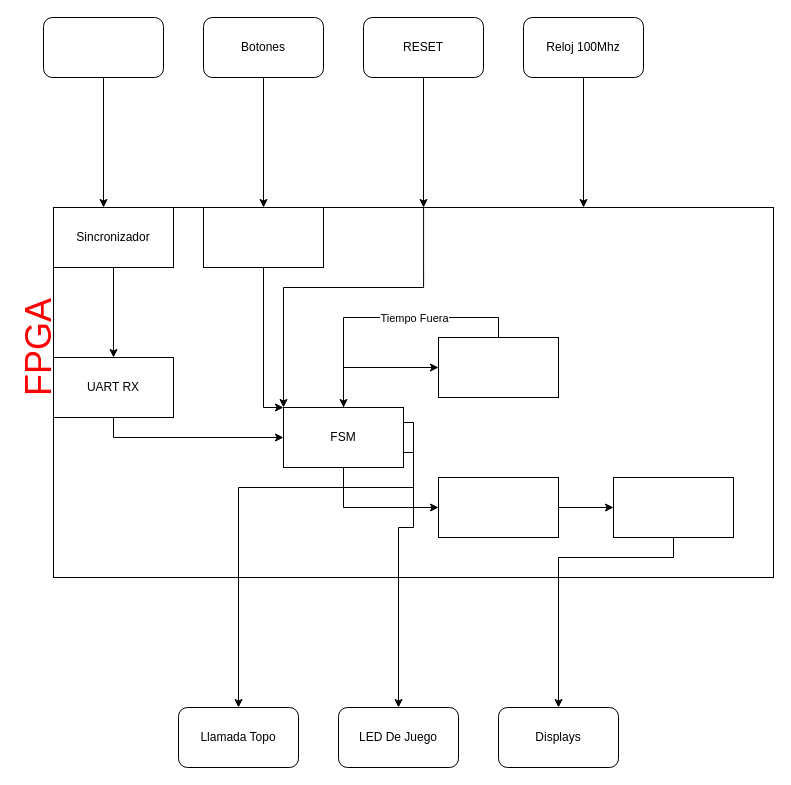
The diagram is 791 pixels wide and 785 high, and some of its shapes have lost their labels. Here are the shapes that lost their labels. From the top down, the centre of each, then its label:
At [103,47]: "UART".
At [263,237]: "Sincronizador + Debouncer".
At [498,367]: "Timer".
At [498,507]: "Contadores".
At [673,507]: "Info Displays".
